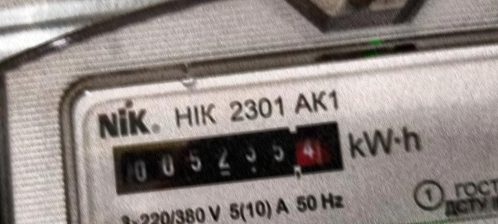0: (130, 156, 147, 183), (158, 152, 175, 177)
2: (212, 143, 231, 170)
3: (239, 137, 258, 164)
4: (297, 132, 317, 162)
5: (267, 134, 285, 163), (185, 146, 202, 173)
screen: (97, 110, 352, 204)
